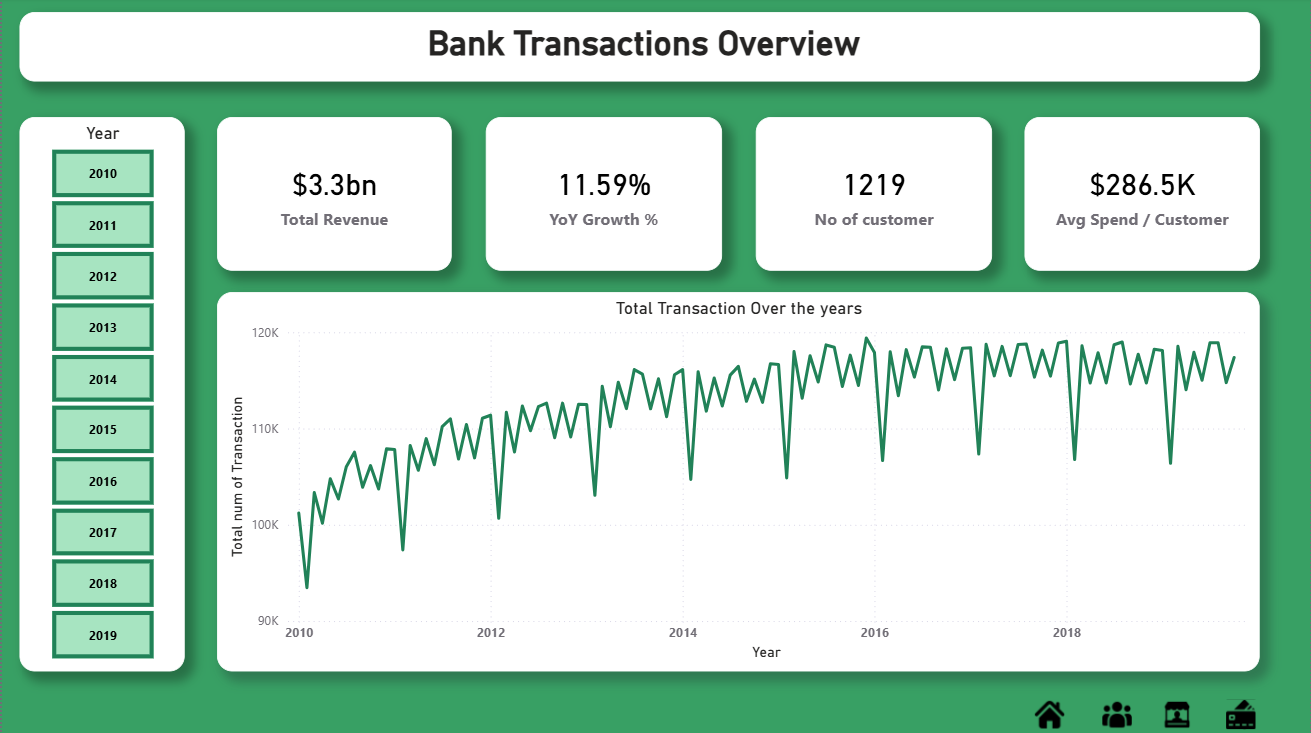

Layout of this report page (visuals, bound fields, positions):
{"tool":"powerbi","page":{"name":"Market_trends","canvas":[1280,720],"ordinal":0},"visuals":[{"type":"lineChart","title":"Total Transaction Over the years","fields":{"Y":["Sum(transactions.num_of_transactions)"],"Category":["transactions.Date.Variation.Date Hierarchy.Year"]},"box":[210.1,288,1019.8,371.5],"z":0},{"type":"slicer","title":"Year","fields":{"Values":["DateTable.Date.Variation.Date Hierarchy.Year"]},"box":[16.7,116.9,161.4,542.6],"z":1000},{"type":"card","fields":{"Values":["Report_measure.YoY Growth %"]},"box":[473,116.9,231,150.3],"z":2000},{"type":"card","title":"No of Customers","fields":{"Values":["Count(transactions.client_id)"]},"box":[737.4,116.9,231,150.3],"z":3000},{"type":"card","fields":{"Values":["Report_measure.Average_spend_per_customer"]},"box":[1000.6,116.9,230.2,150.2],"z":4000},{"type":"card","fields":{"Values":["Report_measure.Average Revenue"]},"box":[210.1,116.9,229.6,150.3],"z":5000},{"type":"textbox","box":[17.2,14.8,1213.5,67.7],"z":6000},{"type":"actionButton","box":[1006.1,683.4,45,37],"z":7000},{"type":"actionButton","box":[1072.5,683.4,45,37],"z":8000},{"type":"actionButton","box":[1131.6,683.4,45,37],"z":9000},{"type":"actionButton","box":[1193.2,683.4,45,37],"z":10000}]}

Visuals, with their boxes in screenshot pixels (x1, y1, x2, y2), scaled from the page's 1280x720 canvas onto the 1311x733 screenshot:
"Total Transaction Over the years" lineChart: {"x1": 215, "y1": 293, "x2": 1260, "y2": 671}
"Year" slicer: {"x1": 17, "y1": 119, "x2": 182, "y2": 671}
card - Report_measure.YoY Growth %: {"x1": 484, "y1": 119, "x2": 721, "y2": 272}
"No of Customers" card: {"x1": 755, "y1": 119, "x2": 992, "y2": 272}
card - Report_measure.Average_spend_per_customer: {"x1": 1025, "y1": 119, "x2": 1261, "y2": 272}
card - Report_measure.Average Revenue: {"x1": 215, "y1": 119, "x2": 450, "y2": 272}
textbox: {"x1": 18, "y1": 15, "x2": 1261, "y2": 84}
actionButton: {"x1": 1030, "y1": 696, "x2": 1077, "y2": 732}
actionButton: {"x1": 1098, "y1": 696, "x2": 1145, "y2": 732}
actionButton: {"x1": 1159, "y1": 696, "x2": 1205, "y2": 732}
actionButton: {"x1": 1222, "y1": 696, "x2": 1268, "y2": 732}
